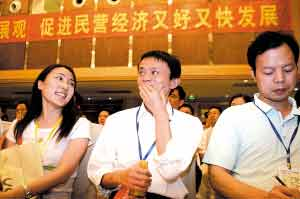face: (257, 44, 295, 99), (42, 68, 76, 105), (138, 59, 168, 97), (231, 97, 246, 112), (168, 90, 181, 107), (207, 108, 219, 120), (98, 111, 108, 123)
